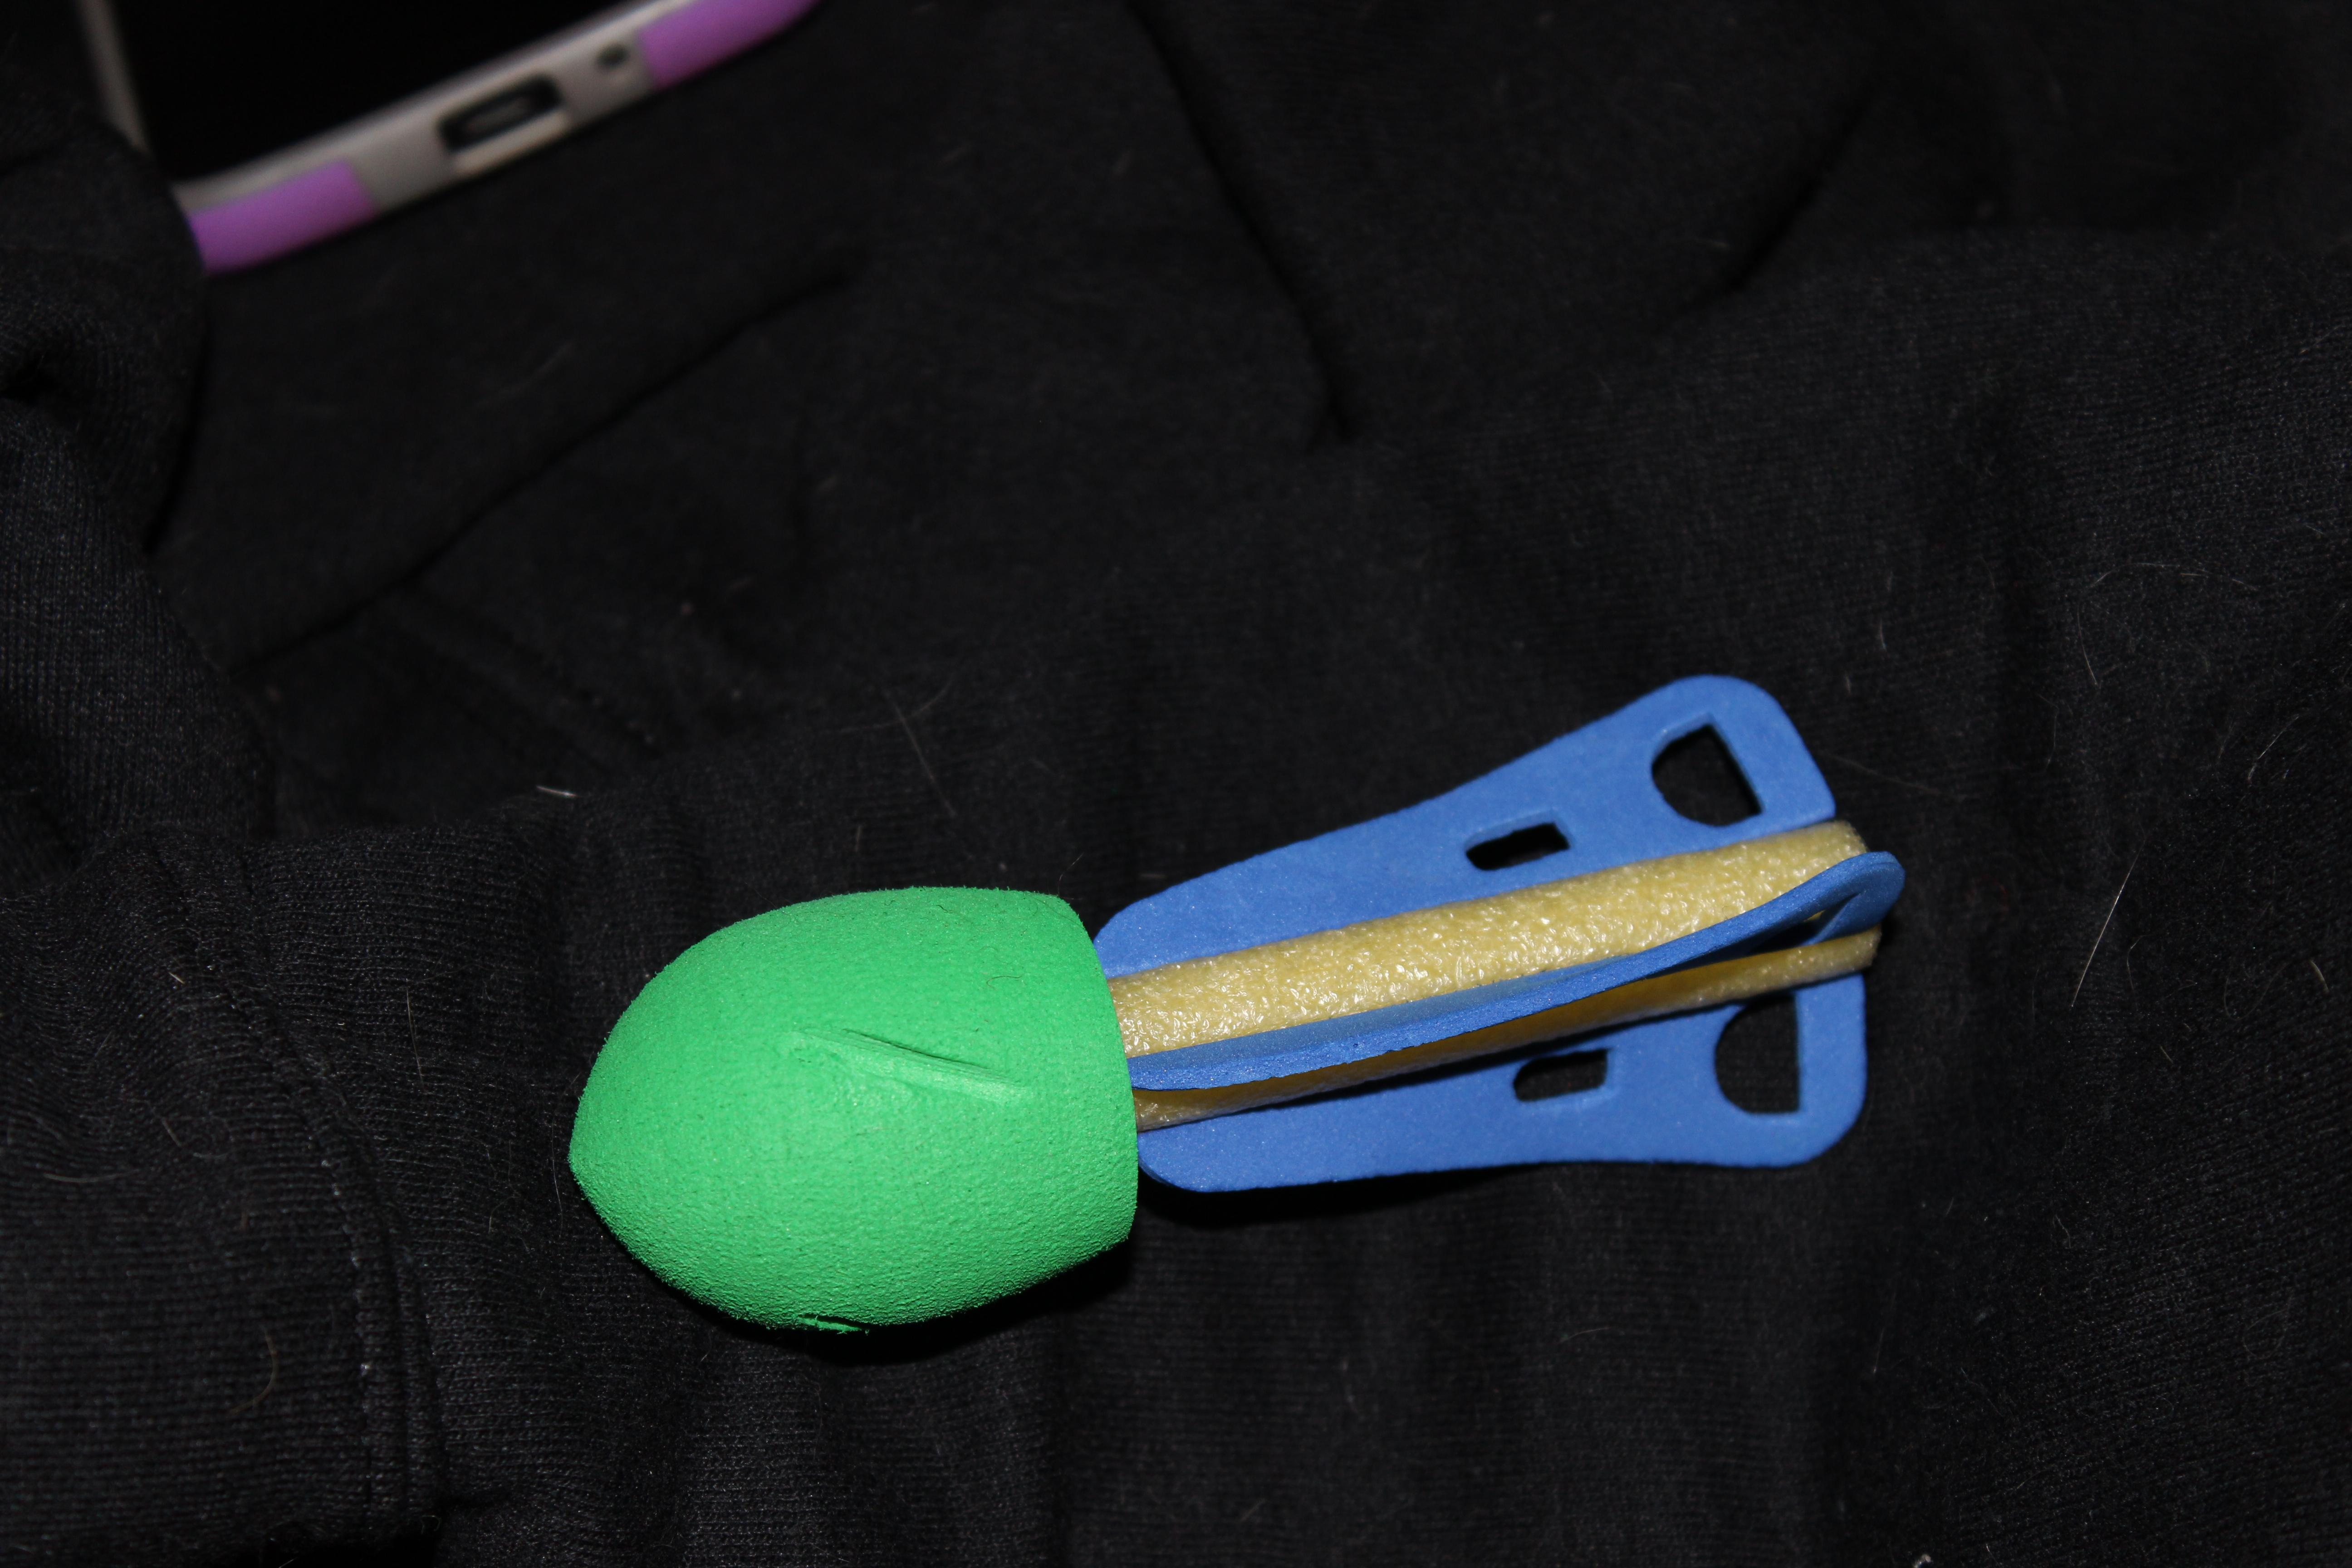foamDart: (497, 647, 1957, 1367)
